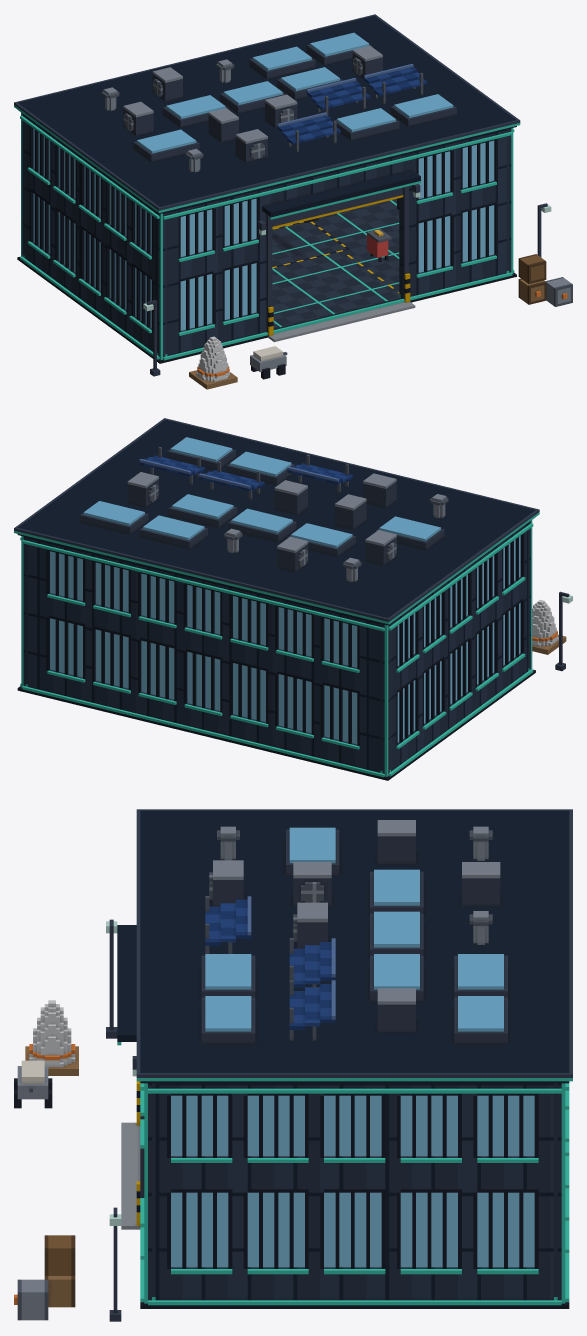
Rendered from workshop_e4_l1.glb.
3 renders of one model, top to bottom at view 1: azimuth 30°, elevation 25°; view 2: azimuth 150°, elevation 25°; view 3: azimuth 270°, elevation 25°, orthographic. The views are drawn at different scales.
Visible parts, largest first — view 1: CutRoof, CutPZ, Base, CutNX, CutNZ; view 2: CutRoof, CutNZ, CutNX, Base, CutPZ; view 3: CutRoof, CutPX, Base, CutPZ, CutNZ.
Boxes of the visible parts, x1,y1,x2,y2 form: CutRoof: (14,14,520,213); CutPZ: (157,128,513,339); Base: (17,198,572,389); CutNX: (20,115,159,333); CutNZ: (21,112,24,239); CutRoof: (14,418,539,625); CutNZ: (21,536,390,755); CutNX: (388,523,533,752); Base: (17,591,572,780); CutPZ: (528,520,532,651); CutRoof: (136,809,572,1083); CutPX: (148,1083,561,1274); Base: (14,919,569,1321); CutPZ: (117,925,155,1272); CutNZ: (554,1083,569,1272).
Bounding box in the file's own units: 18.4 × 7.7 × 14.6.
